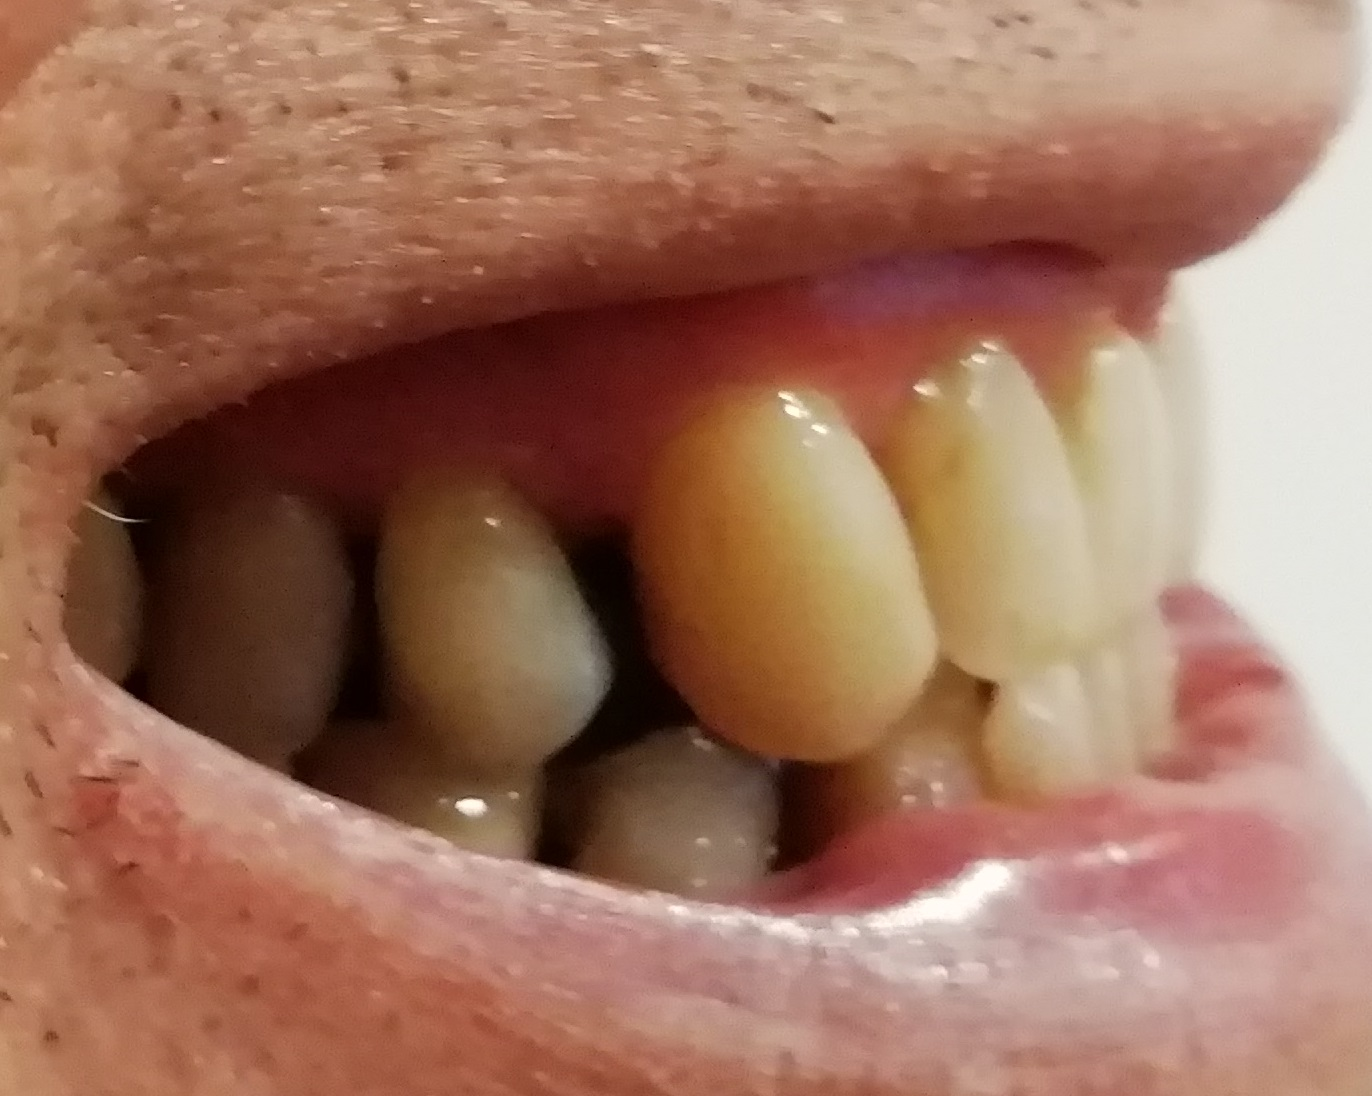boca: (60, 285, 1203, 873)
